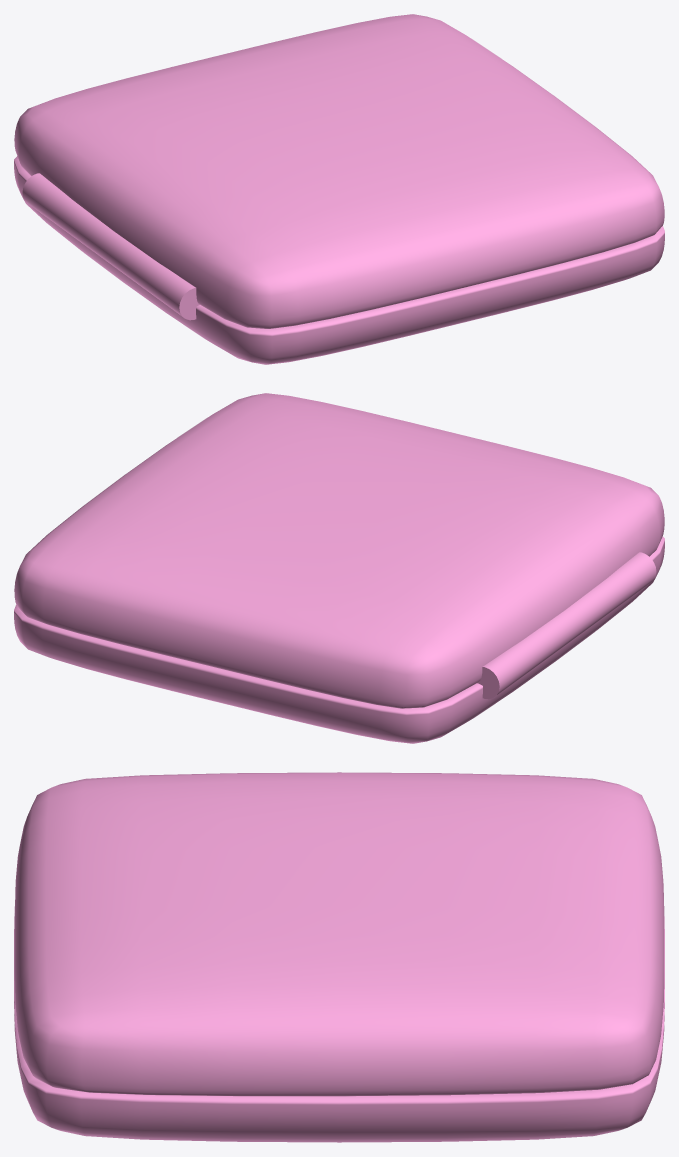
File: mirror.fbx
3 views of the same model, one above another, from view 1: azimuth 30°, elevation 25°; view 2: azimuth 150°, elevation 25°; view 3: azimuth 270°, elevation 25° (orthographic). The views are drawn at different scales.
Visible parts, largest first — view 1: pCube1, pCylinder1; view 2: pCube1, pCylinder1; view 3: pCube1.
Boxes of the visible parts, x1,y1,x2,y2 form: pCube1: (14,14,664,364); pCylinder1: (22,173,199,320); pCube1: (14,393,664,743); pCylinder1: (477,552,656,699); pCube1: (14,772,664,1142).
Bounding box in the file's own units: 4.65 × 1.24 × 4.54.
